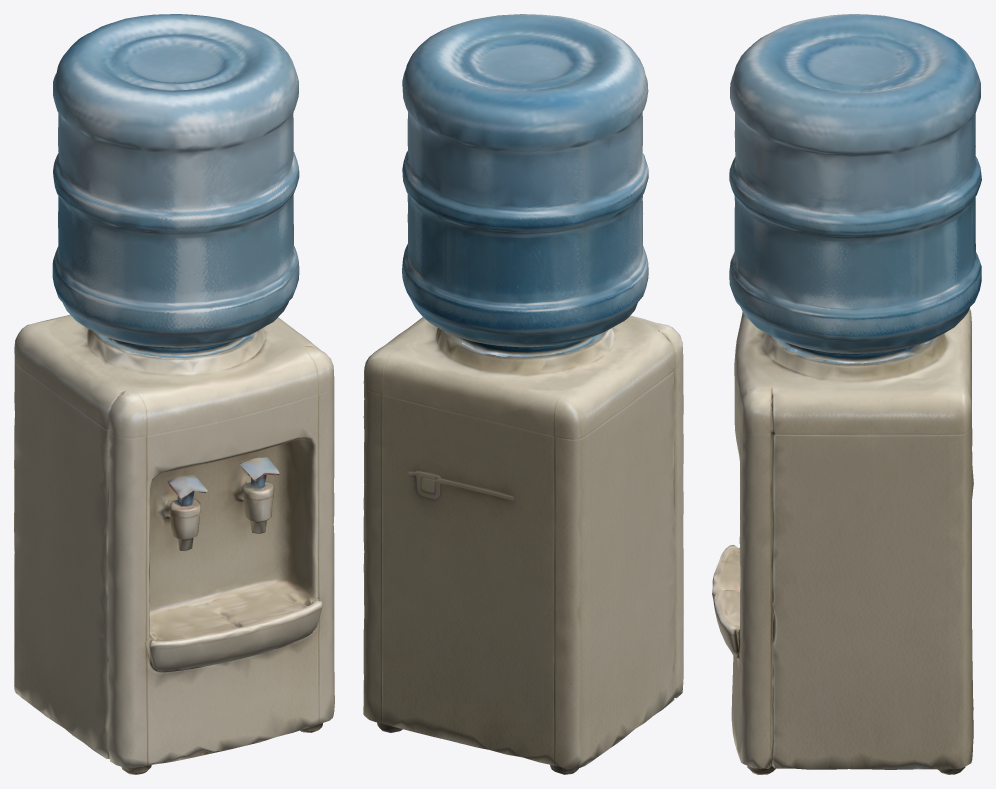
The model's file is VAR_Yellow_WaterCooler.fbx.
The picture shows the model from 3 angles, left to right: view 1: azimuth 30°, elevation 25°; view 2: azimuth 150°, elevation 25°; view 3: azimuth 270°, elevation 25°; orthographic projection.
Visible parts, largest first — view 1: texture_mapping; view 2: texture_mapping; view 3: texture_mapping.
Part boxes in pixels (x1,y1,x2,y2): texture_mapping: (14,14,334,774); texture_mapping: (363,14,683,774); texture_mapping: (712,14,981,774).
Size of the model in its own units: 0.353 by 0.3641 by 1.
1 material, 1 textured.
